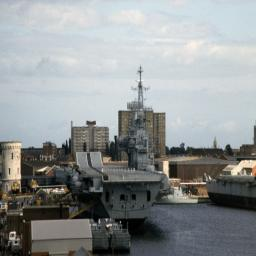Portanaves: (64, 59, 166, 227)
